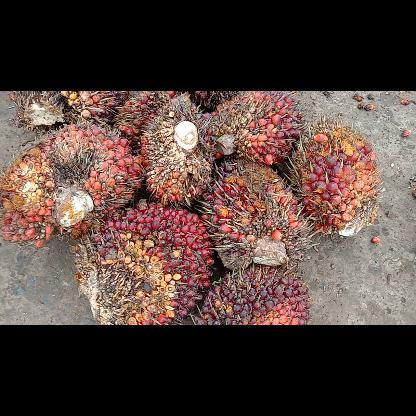TBS masak: (70, 198, 210, 324), (1, 121, 147, 240), (202, 159, 310, 271), (289, 113, 379, 238), (142, 92, 216, 204), (214, 90, 304, 168), (196, 266, 312, 324)
